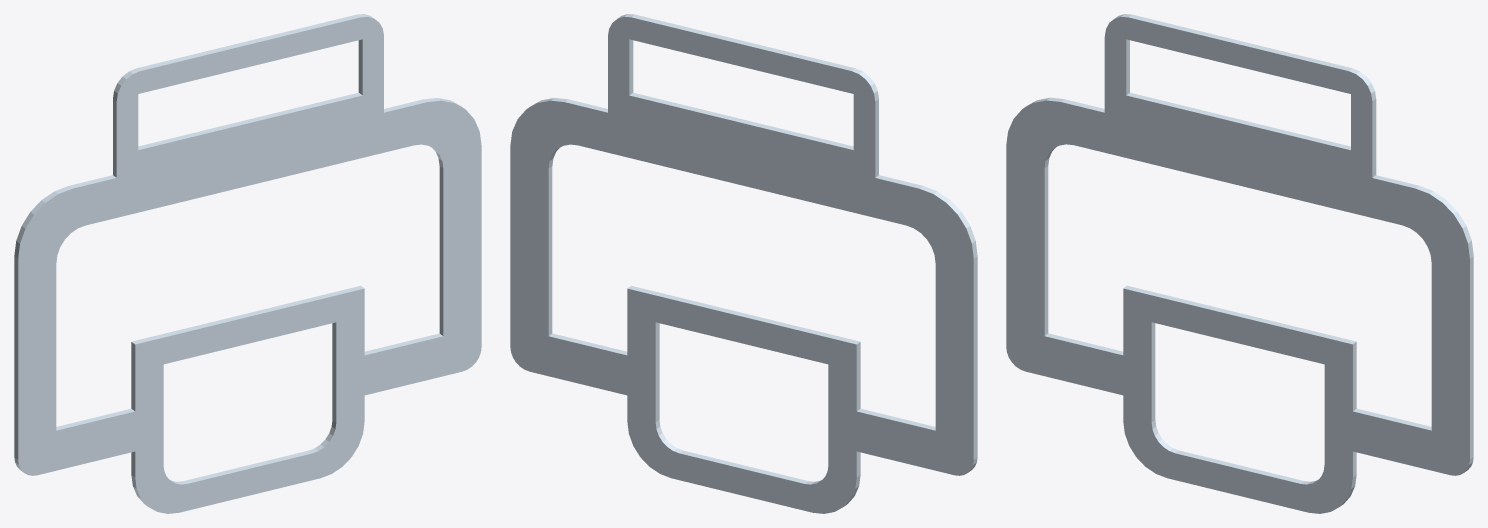
File: Printer_3D_Icon_02.fbx
3 views of the same model, side by side, from view 1: azimuth 30°, elevation 25°; view 2: azimuth 150°, elevation 25°; view 3: azimuth 330°, elevation 25° (orthographic).
Parts seen in each view (by area): view 1: Printer_3D_Icon_02; view 2: Printer_3D_Icon_02; view 3: Printer_3D_Icon_02.
Boxes of the visible parts, bbox=[...] form: Printer_3D_Icon_02: bbox=[14, 14, 481, 513]; Printer_3D_Icon_02: bbox=[510, 14, 977, 513]; Printer_3D_Icon_02: bbox=[1006, 14, 1473, 513].
Bounding box in the file's own units: 139 × 129 × 2.
